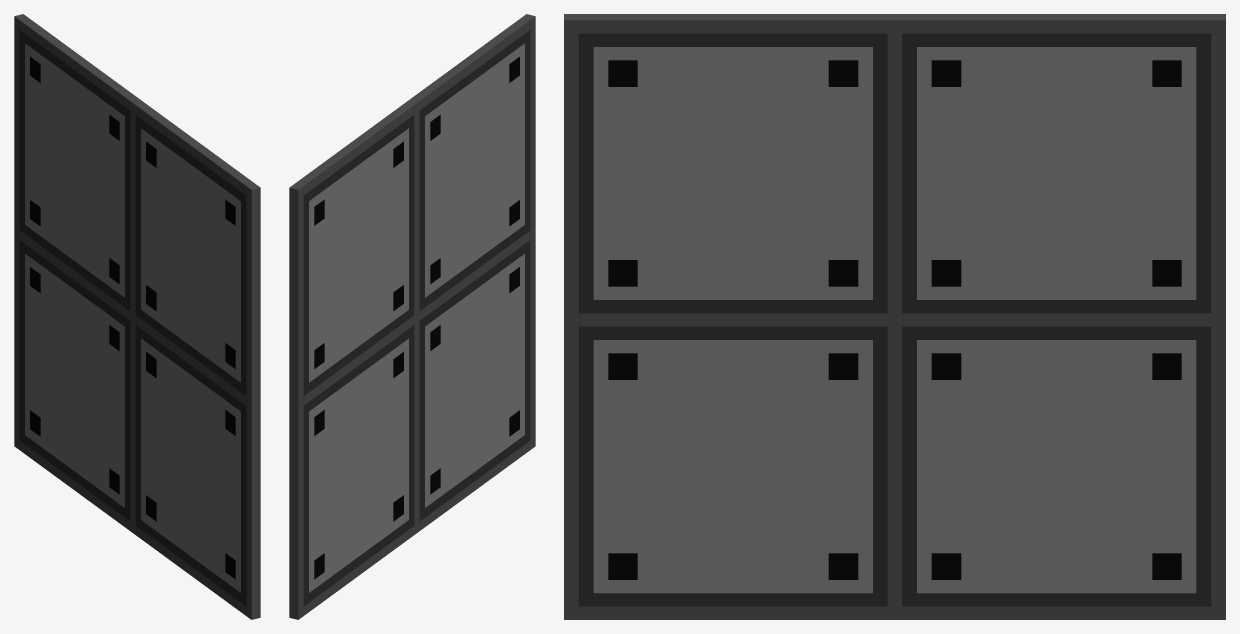
File: danger room wall.obj
The picture shows the model from 3 angles, left to right: view 1: azimuth 30°, elevation 25°; view 2: azimuth 150°, elevation 25°; view 3: azimuth 270°, elevation 25°; orthographic projection. The views are drawn at different scales.
Bounding box in the file's own units: 1 × 45 × 45.
Materials: 1 (1 with a texture image).
